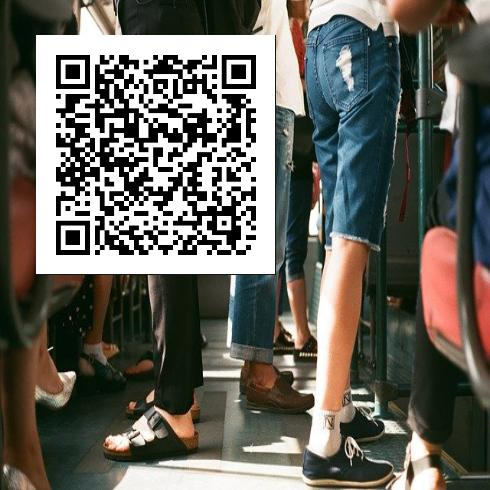qr_code: (36, 35, 275, 274)
